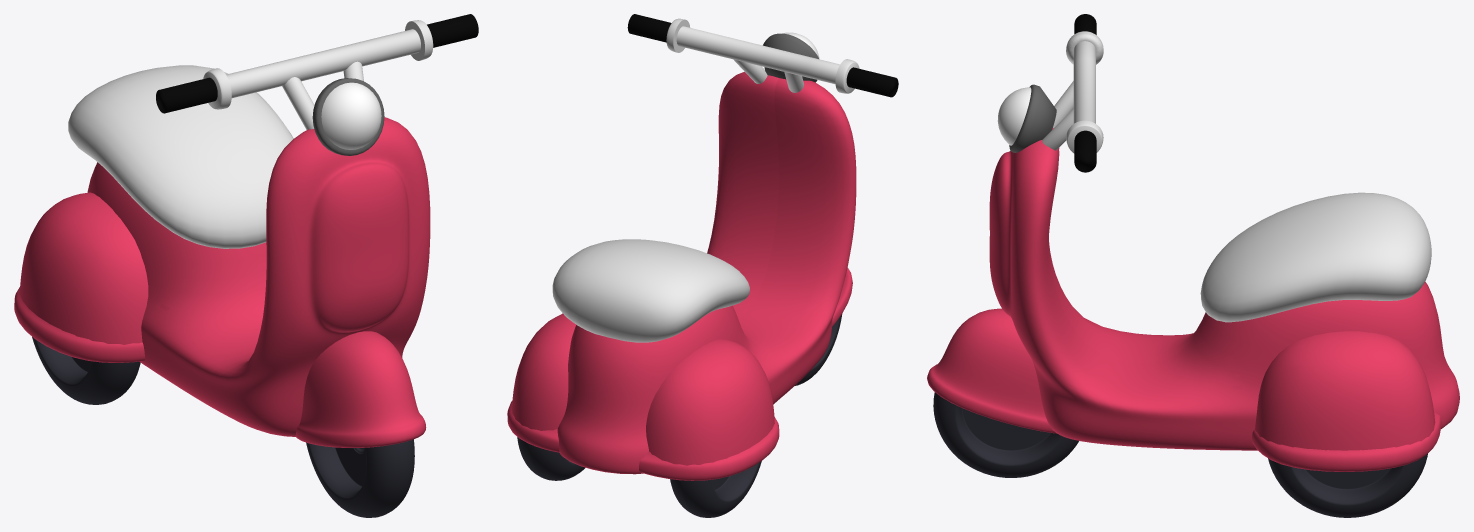
File: Vespa.fbx
3 renders of one model, left to right at view 1: azimuth 30°, elevation 25°; view 2: azimuth 150°, elevation 25°; view 3: azimuth 270°, elevation 25°, orthographic. The views are drawn at different scales.
Parts seen in each view (by area): view 1: Cube, Cube.002, Cube.001, Cylinder.001, Cylinder.004, Cylinder.002, Sphere, Cylinder.007, Cylinder.005, Cylinder.003, Cylinder.006; view 2: Cube, Cube.002, Cylinder.004, Cylinder.002, Cylinder, Cylinder.007, Cylinder.005, Cylinder.006, Cylinder.003, Cylinder.001, Cube.001; view 3: Cube, Cube.002, Cube.001, Cylinder.001, Cylinder, Cylinder.004, Cylinder.005, Sphere, Cylinder.003, Cylinder.006.
Part boxes in pixels (x1=…): Cube: x1=14, y1=117, x2=430, y2=436; Cube.002: x1=68, y1=65, x2=293, y2=248; Cube.001: x1=295, y1=331, x2=426, y2=447; Cylinder.001: x1=306, y1=439, x2=414, y2=517; Cylinder.004: x1=203, y1=20, x2=433, y2=109; Cylinder.002: x1=32, y1=337, x2=140, y2=404; Sphere: x1=321, y1=82, x2=381, y2=149; Cylinder.007: x1=156, y1=77, x2=217, y2=113; Cylinder.005: x1=312, y1=78, x2=384, y2=155; Cylinder.003: x1=282, y1=61, x2=363, y2=129; Cylinder.006: x1=427, y1=14, x2=478, y2=47; Cube: x1=507, y1=72, x2=856, y2=480; Cube.002: x1=552, y1=239, x2=749, y2=342; Cylinder.004: x1=666, y1=18, x2=859, y2=93; Cylinder.002: x1=670, y1=461, x2=761, y2=517; Cylinder: x1=517, y1=437, x2=585, y2=480; Cylinder.007: x1=846, y1=67, x2=898, y2=97; Cylinder.005: x1=763, y1=33, x2=818, y2=82; Cylinder.006: x1=627, y1=14, x2=671, y2=42; Cylinder.003: x1=733, y1=59, x2=803, y2=92; Cylinder.001: x1=795, y1=314, x2=842, y2=385; Cube.001: x1=832, y1=268, x2=852, y2=326; Cube: x1=989, y1=128, x2=1459, y2=471; Cube.002: x1=1200, y1=192, x2=1431, y2=322; Cube.001: x1=927, y1=308, x2=1056, y2=433; Cylinder.001: x1=933, y1=392, x2=1078, y2=477; Cylinder: x1=1268, y1=454, x2=1427, y2=517; Cylinder.004: x1=1066, y1=31, x2=1103, y2=153; Cylinder.005: x1=1009, y1=84, x2=1056, y2=152; Sphere: x1=997, y1=87, x2=1031, y2=145; Cylinder.003: x1=1042, y1=81, x2=1073, y2=150; Cylinder.006: x1=1074, y1=130, x2=1096, y2=172.
Size of the model in its own units: 319 by 428 by 519.
